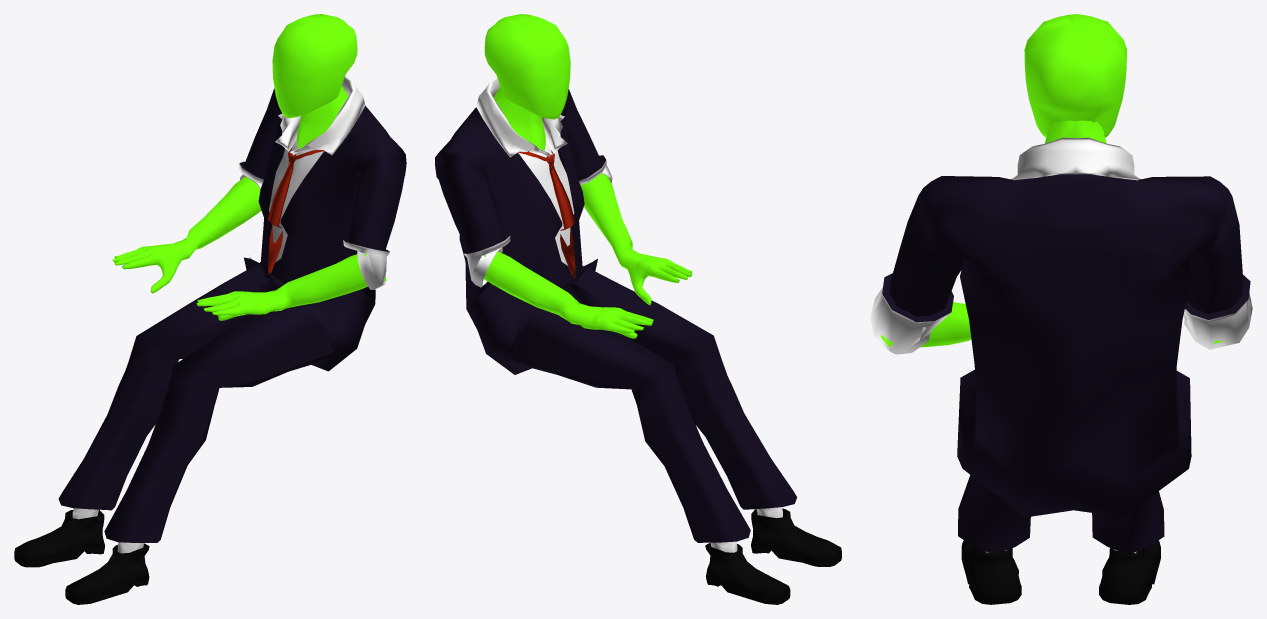
The model's file is avatar_02.fbx.
3 renders of one model, left to right at view 1: azimuth 30°, elevation 25°; view 2: azimuth 150°, elevation 25°; view 3: azimuth 270°, elevation 25°, orthographic. The views are drawn at different scales.
Parts seen in each view (by area): view 1: pants, jacket, head_mash, hand_l_mash, hand_l_mash1, shirt, boot_r, boot_l, neck, tie; view 2: pants, jacket, head_mash, hand_l_mash1, hand_l_mash, shirt, boot_l, boot_r, neck, tie; view 3: jacket, head_mash, pants, shirt, boot_r, boot_l, hand_l_mash, neck.
Boxes of the visible parts, left/top/right/bottom form: pants: left=58, top=265, right=334, bottom=542; jacket: left=239, top=88, right=406, bottom=371; head_mash: left=272, top=14, right=357, bottom=118; hand_l_mash: left=196, top=253, right=386, bottom=320; hand_l_mash1: left=112, top=176, right=261, bottom=293; shirt: left=268, top=76, right=365, bottom=262; boot_r: left=14, top=509, right=104, bottom=567; boot_l: left=65, top=543, right=149, bottom=604; neck: left=297, top=86, right=348, bottom=148; tie: left=268, top=148, right=324, bottom=274; pants: left=511, top=268, right=797, bottom=542; jacket: left=435, top=89, right=612, bottom=374; head_mash: left=484, top=14, right=570, bottom=119; hand_l_mash1: left=484, top=251, right=653, bottom=338; hand_l_mash: left=580, top=173, right=692, bottom=305; shirt: left=476, top=77, right=574, bottom=265; boot_l: left=751, top=508, right=841, bottom=566; boot_r: left=705, top=542, right=790, bottom=604; neck: left=493, top=86, right=545, bottom=150; tie: left=518, top=150, right=575, bottom=278; jacket: left=870, top=174, right=1252, bottom=517; head_mash: left=1024, top=14, right=1126, bottom=137; pants: left=958, top=475, right=1164, bottom=554; shirt: left=1010, top=137, right=1141, bottom=180; boot_r: left=1099, top=540, right=1160, bottom=604; boot_l: left=961, top=540, right=1021, bottom=604; hand_l_mash: left=881, top=302, right=971, bottom=347; neck: left=1024, top=120, right=1106, bottom=179.
Size of the model in its own units: 9.04 by 12.71 by 6.09.
